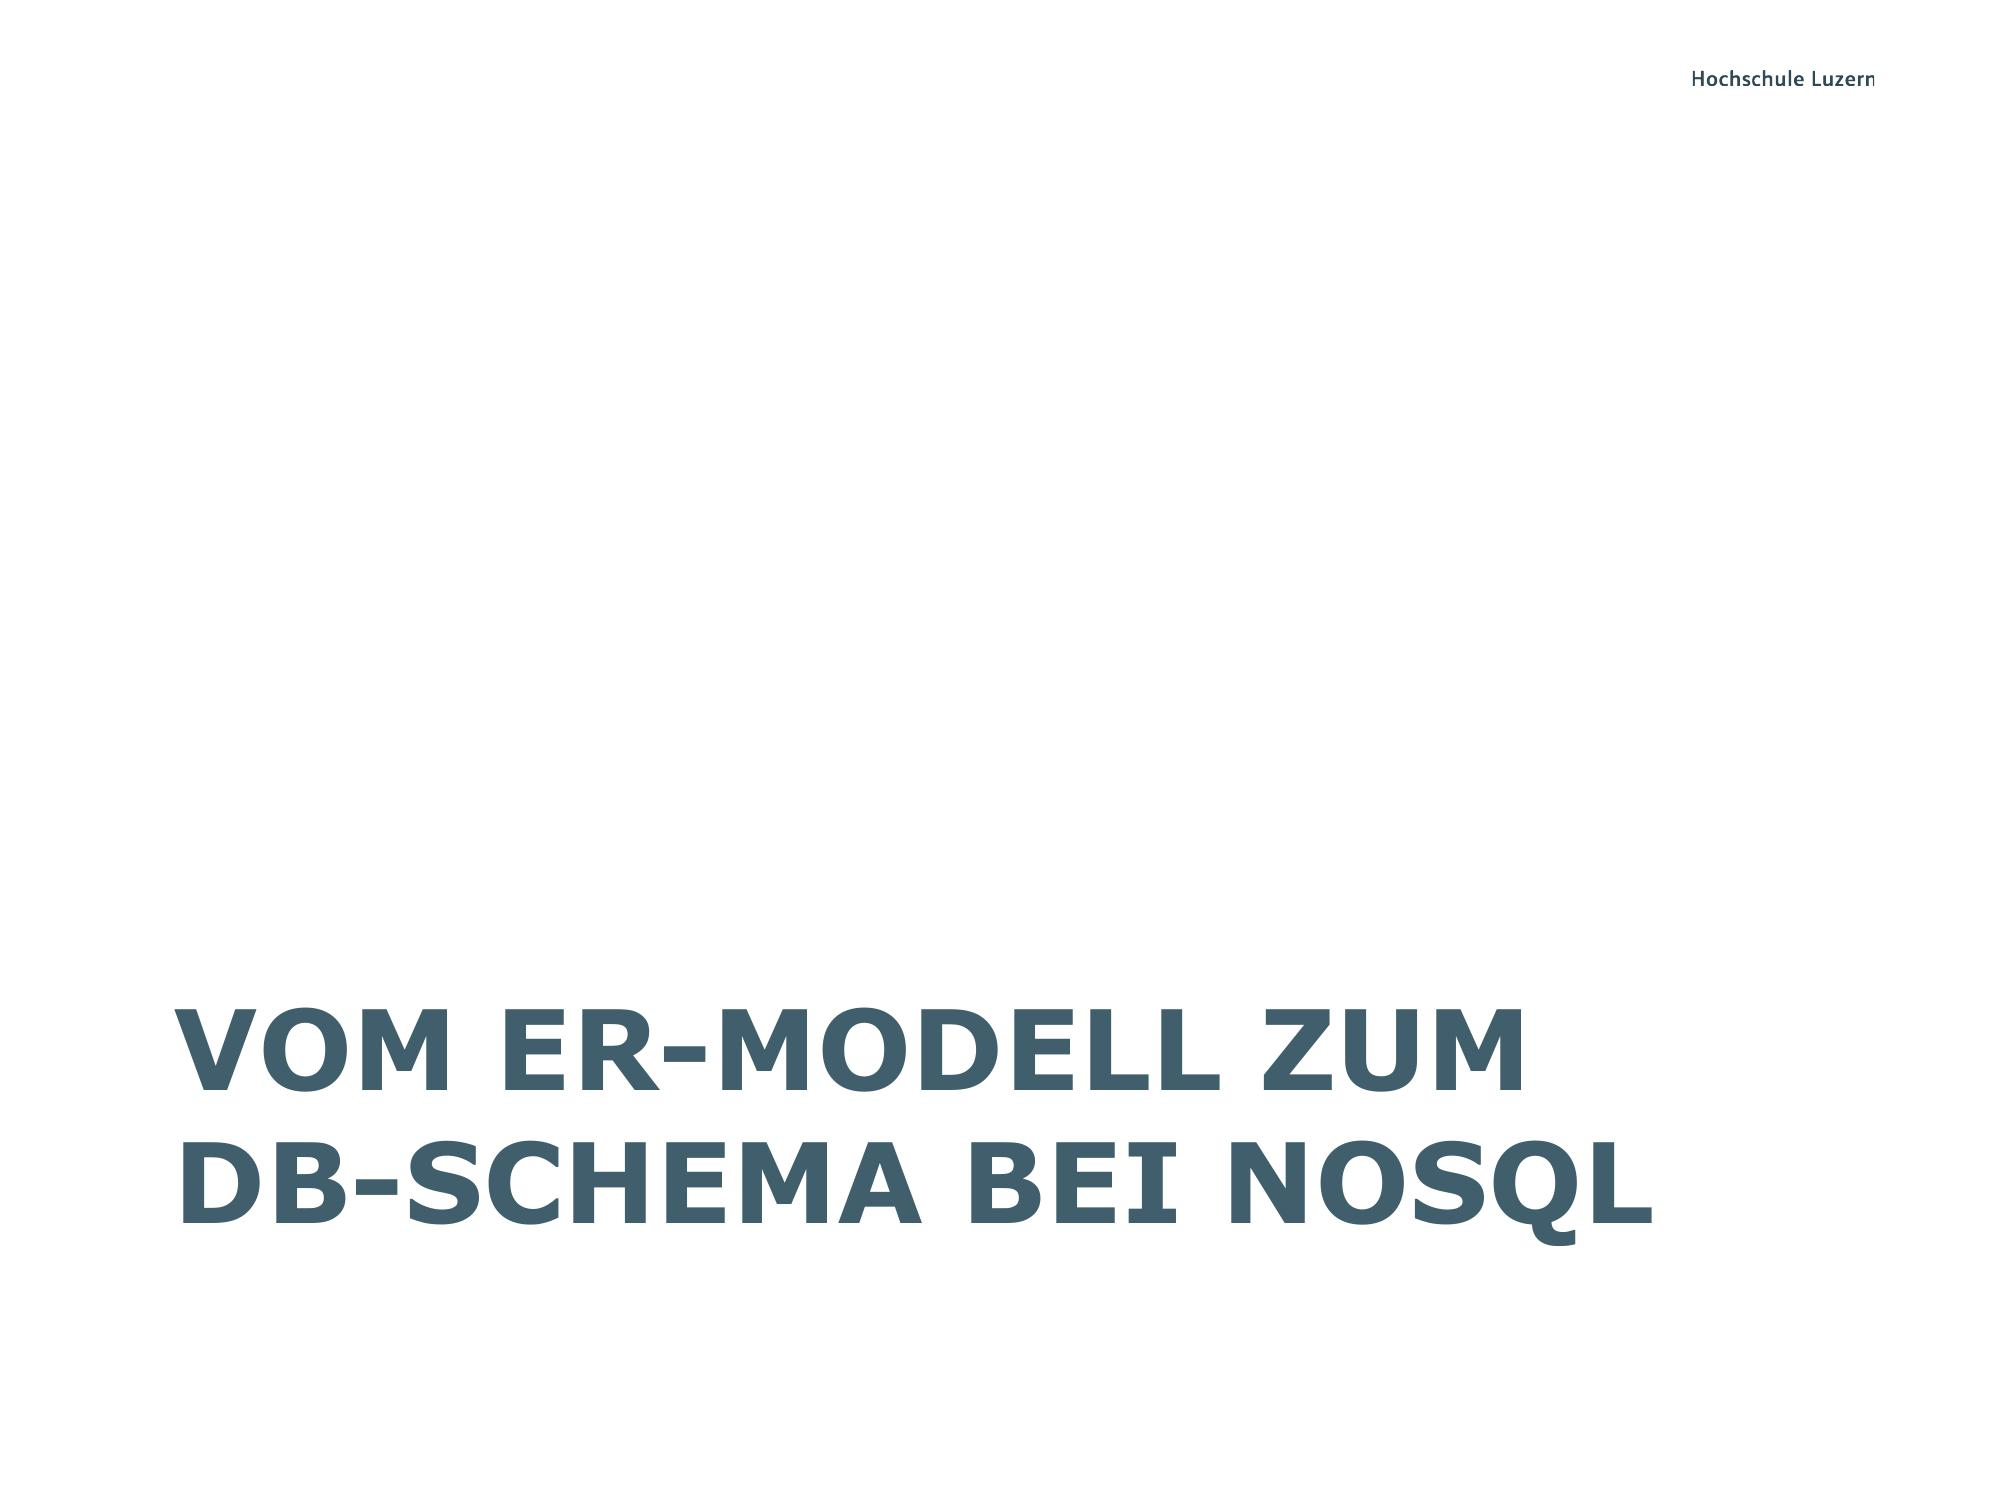Title: (143, 977, 1676, 1275)
